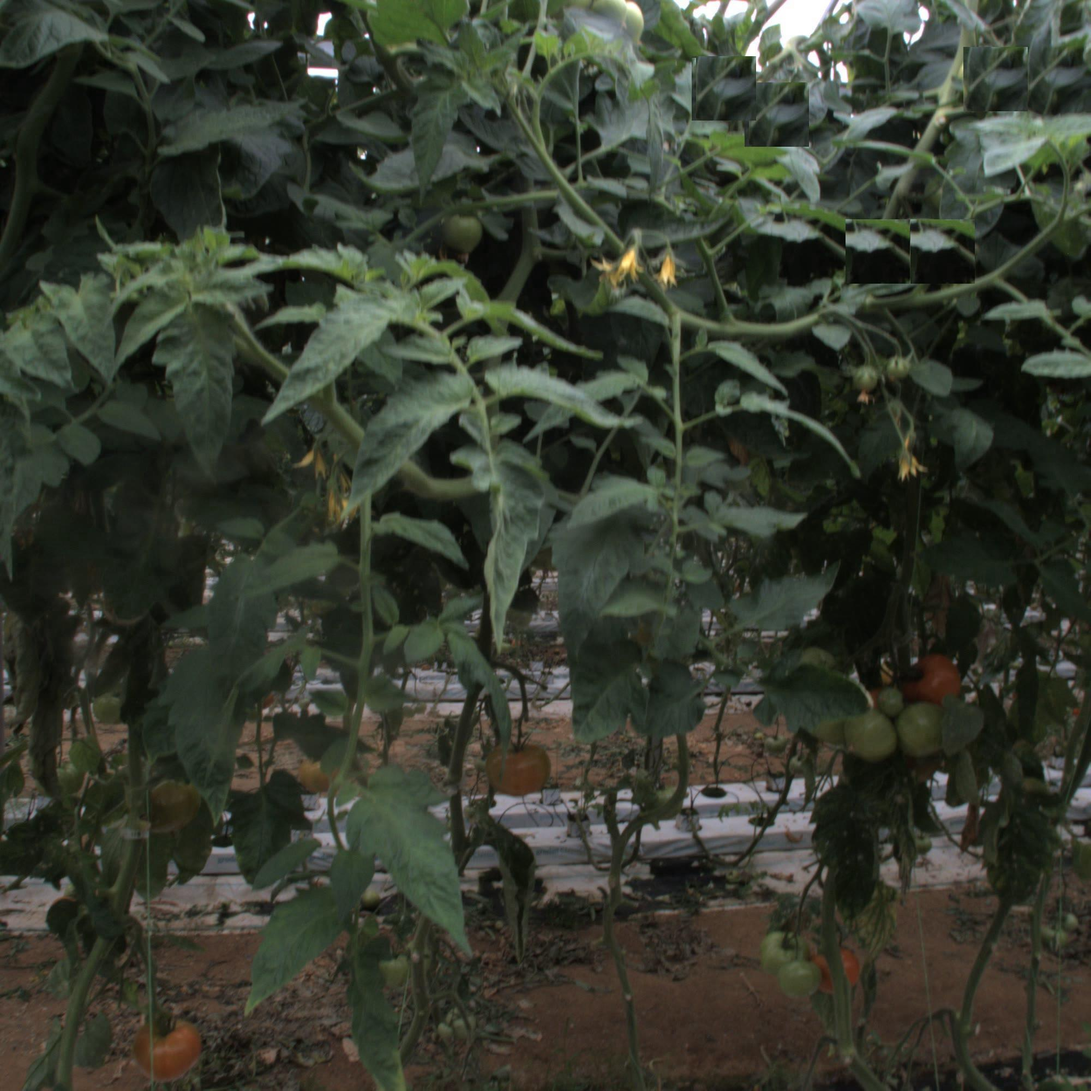fully-ripe: (134, 1012, 200, 1077), (906, 656, 963, 713), (810, 945, 858, 993)
semi-ripe: (486, 732, 552, 797)
unripe: (895, 703, 953, 761), (142, 775, 199, 832), (843, 709, 900, 765), (758, 930, 806, 978), (440, 211, 485, 256), (781, 960, 820, 999)
